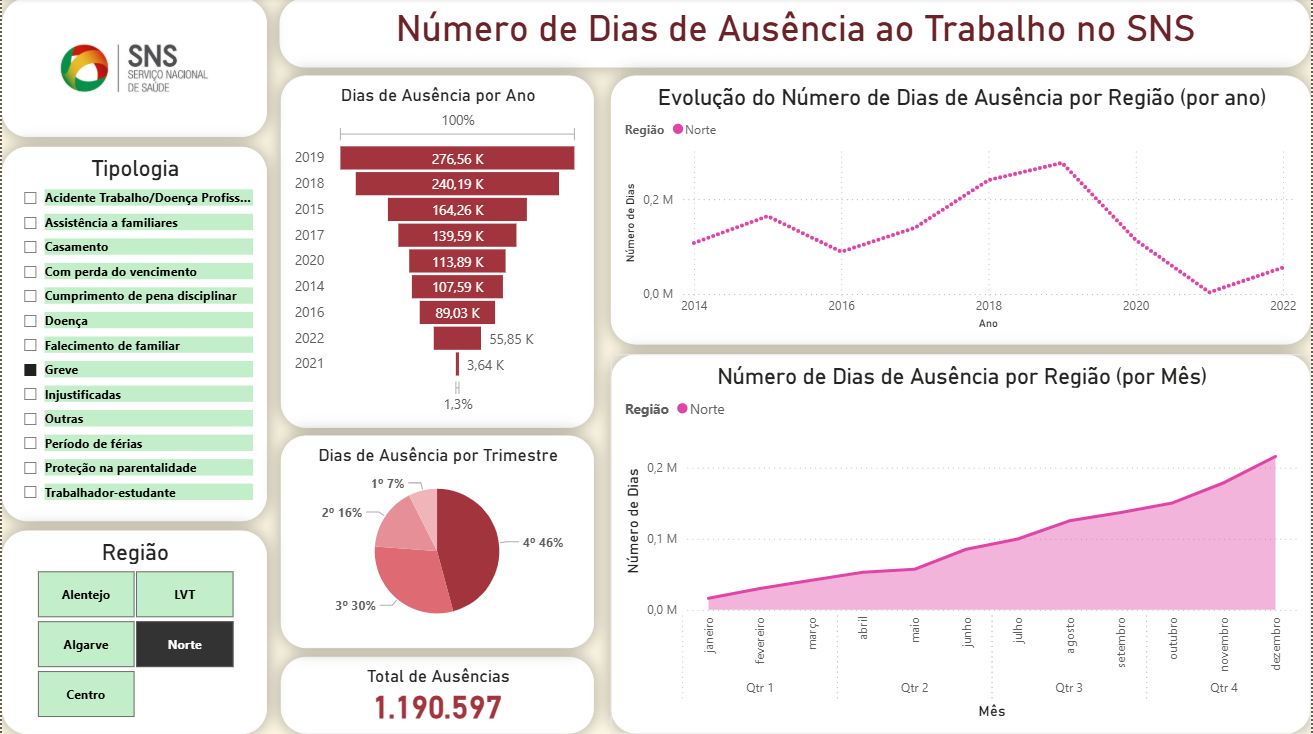

The page's visual inventory and layout, read from the dashboard file:
{"tool":"powerbi","page":{"name":"Dashboard_EvoluçãoAusências","canvas":[1280,720],"ordinal":0},"visuals":[{"type":"card","title":"Total de Ausências","fields":{"Values":["Sum(FactNumDiasAusência.NúmDiasAusência)"]},"box":[272.2,644.4,306.7,75.6],"z":0},{"type":"textbox","title":"Número de Dias de Ausência ao Trabalho no SNS","box":[272,0,1008,68],"z":1000},{"type":"funnel","title":"Dias de Ausência por Ano","fields":{"Y":["Sum(FactNumDiasAusência.NúmDiasAusência)"],"Category":["DimTempo.Ano"]},"box":[272.2,75.6,306.7,344.4],"z":2000},{"type":"image","box":[0,0,259,136],"z":3000},{"type":"lineChart","title":"Evolução do Número de Dias de Ausência por Região (por ano)","fields":{"Y":["Sum(FactNumDiasAusência.NúmDiasAusência)"],"Series":["DimRegião.Região"],"Category":["DimTempo.Ano"]},"box":[595,76,685,263],"z":4000},{"type":"slicer","title":"Tipologia","fields":{"Values":["DimTipologiaAusência.TipologiaAusência"]},"box":[0,145.4,259.2,366.3],"z":5000},{"type":"stackedAreaChart","title":"Número de Dias de Ausência por Região (por Mês)","fields":{"Category":["DimTempo.Data.Variação.Hierarquia de Datas.Trimestre","DimTempo.Data.Variação.Hierarquia de Datas.Mês"],"Y":["Sum(FactNumDiasAusência.NúmDiasAusência)"],"Series":["DimRegião.Região"]},"box":[595,349,685,371],"z":6000},{"type":"pieChart","title":"Dias de Ausência por Trimestre","fields":{"Y":["Sum(FactNumDiasAusência.NúmDiasAusência)"],"Category":["DimTempo.TrimestreNúmero"]},"box":[272.2,427.8,306.7,207.8],"z":7000},{"type":"slicer","title":"Região","fields":{"Values":["DimRegião.Região"]},"box":[0,521.1,258.9,198.9],"z":8000}]}

Visuals, with their boxes in screenshot pixels (x1, y1, x2, y2), scaled from the page's 1280x720 canvas onto the 1313x734 screenshot:
"Total de Ausências" card: detection(279, 657, 594, 733)
"Número de Dias de Ausência ao Trabalho no SNS" textbox: detection(279, 0, 1312, 69)
"Dias de Ausência por Ano" funnel: detection(279, 77, 594, 428)
image: detection(0, 0, 266, 139)
"Evolução do Número de Dias de Ausência por Região (por ano)" lineChart: detection(610, 77, 1312, 346)
"Tipologia" slicer: detection(0, 148, 266, 522)
"Número de Dias de Ausência por Região (por Mês)" stackedAreaChart: detection(610, 356, 1312, 733)
"Dias de Ausência por Trimestre" pieChart: detection(279, 436, 594, 648)
"Região" slicer: detection(0, 531, 266, 733)
